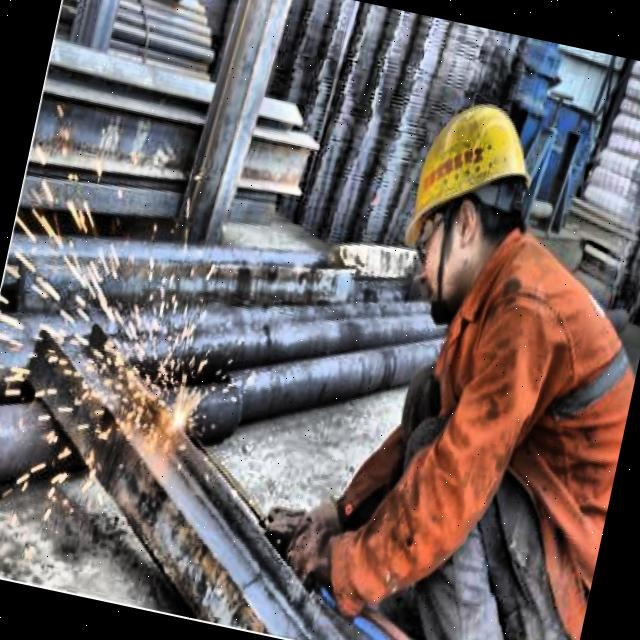helmet: (372, 70, 557, 337)
